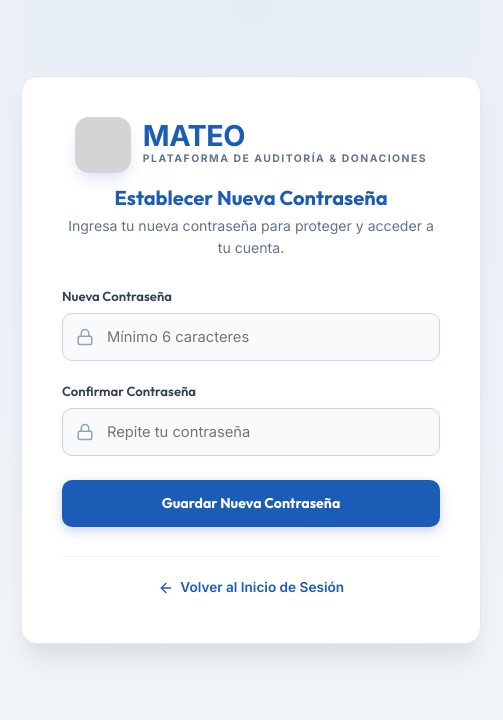
Test: UpdatePassword Component › validates minimum password length
Step 1. Type "123" into the password field labelled "Nueva Contraseña" → (251, 337), box left=62, top=313, right=440, bottom=361
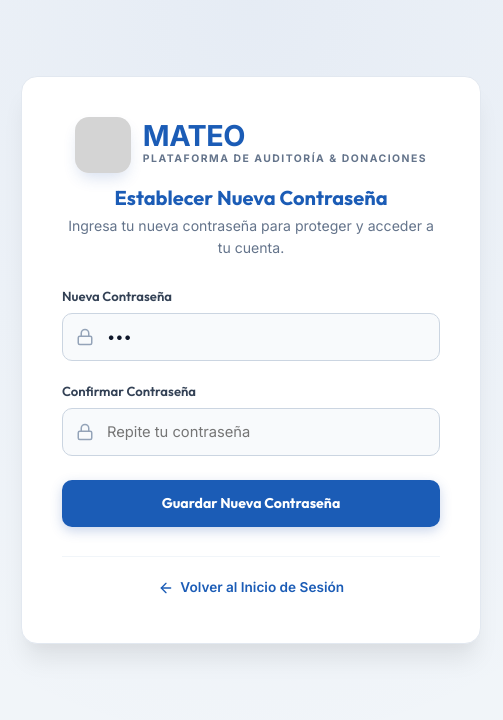
Step 2. Type "123" into the password field labelled "Confirmar Contraseña" → (251, 432), box left=62, top=408, right=440, bottom=456
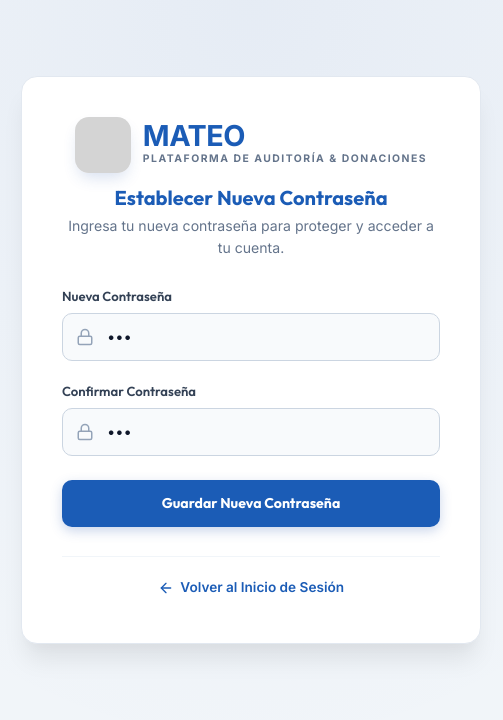
Step 3. Click the button "Guardar Nueva Contraseña" → (251, 503), box left=62, top=480, right=440, bottom=527
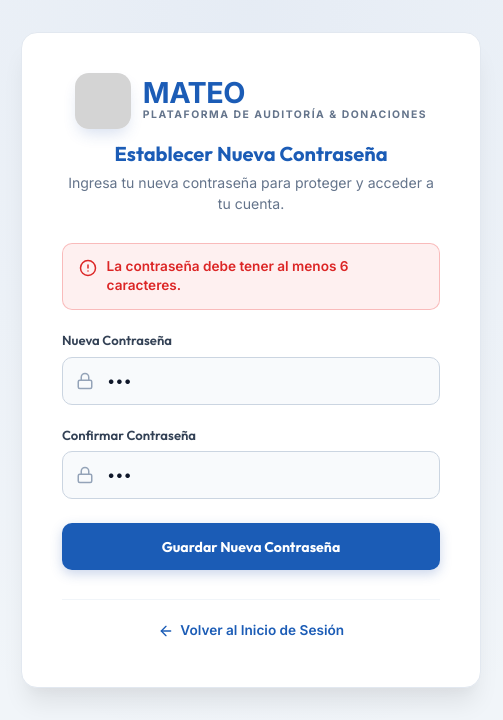
Result: the text "La contraseña debe tener al menos 6 caracteres." is shown at left=107, top=258, right=349, bottom=294
